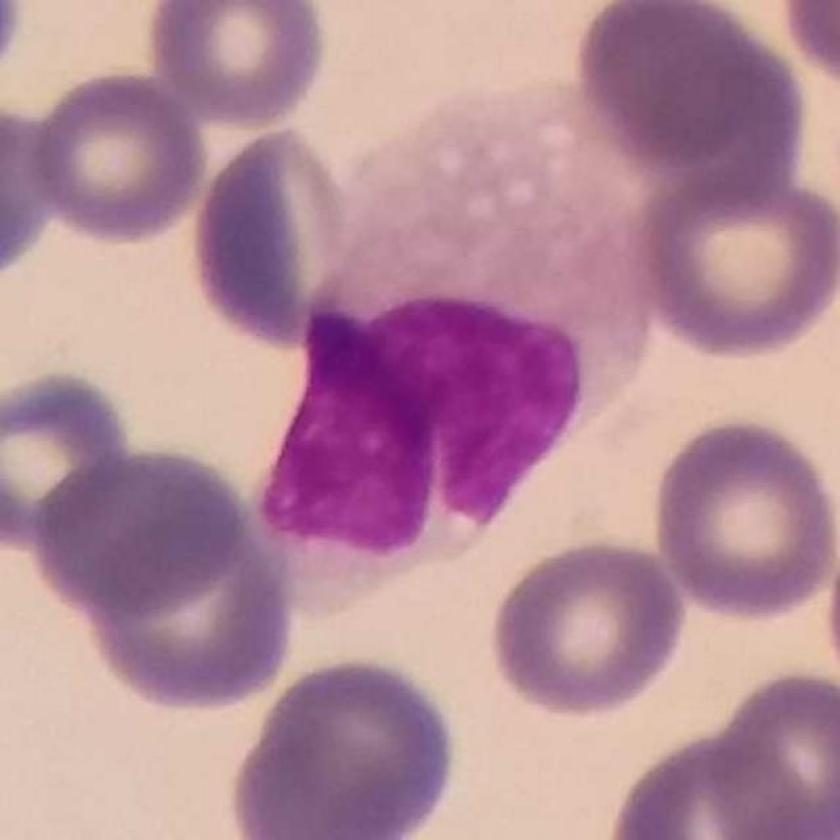monocyte: (240, 78, 673, 605)
